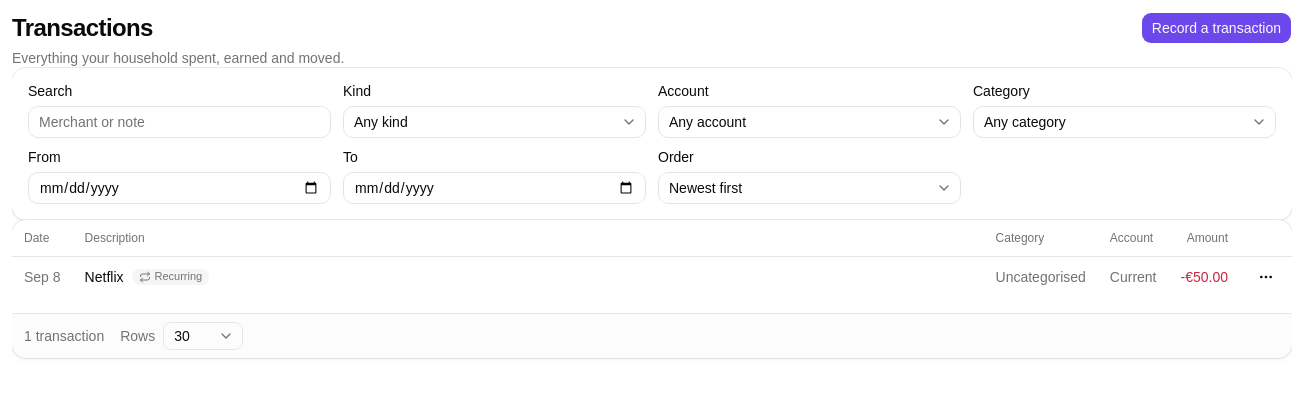
Test case: an ordinary recurring transaction › keeps its badge and both actions
Check: the text "Recurring" is shown, box x1=154 y1=269 x2=202 y2=284
Click the button named "Manage transaction".
click(1266, 276)  # box x1=1252 y1=262 x2=1280 y2=290
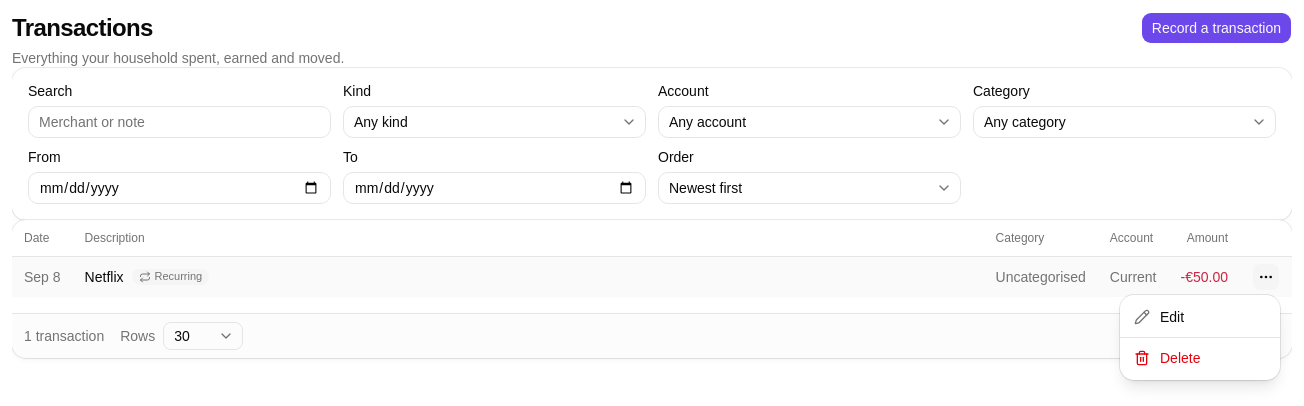
Check: the menu item "Edit" is shown, box x1=1134 y1=309 x2=1184 y2=325
Check: the menu item "Delete" is shown, box x1=1134 y1=350 x2=1200 y2=366
